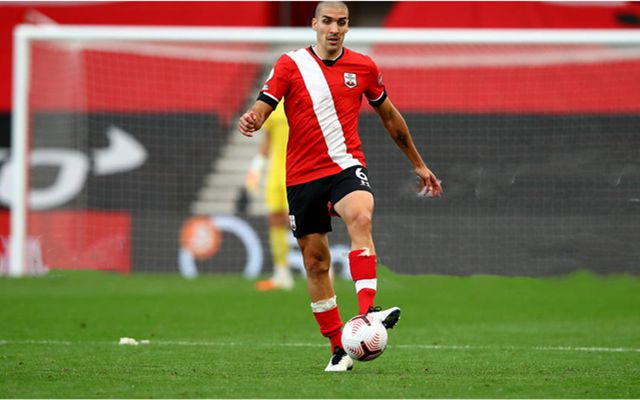ball: (341, 314, 389, 361)
